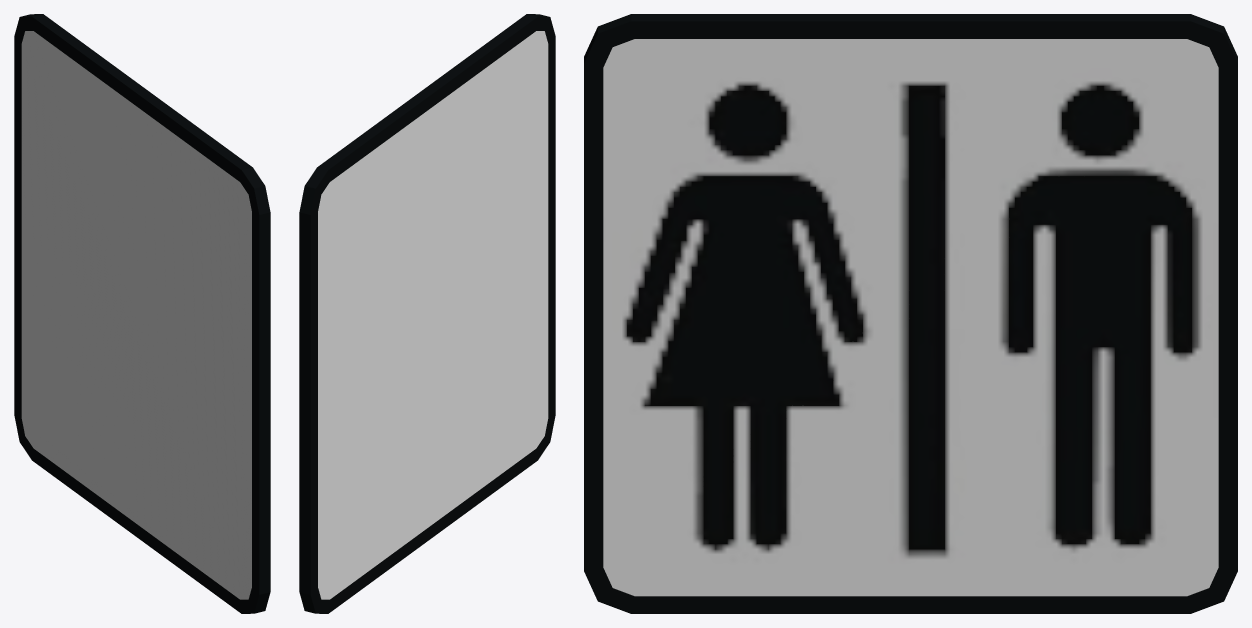
Rendered from Toilet sign.fbx.
3 views of the same model, side by side, from view 1: azimuth 30°, elevation 25°; view 2: azimuth 150°, elevation 25°; view 3: azimuth 270°, elevation 25° (orthographic). The views are drawn at different scales.
Visible parts, largest first — view 1: Plane; view 2: Plane; view 3: Plane.
Part boxes in pixels (x1,y1,x2,y2): Plane: (14,14,270,613); Plane: (299,14,555,613); Plane: (584,14,1237,613).
Size of the model in its own units: 0.2719 by 10.3 by 10.3.
